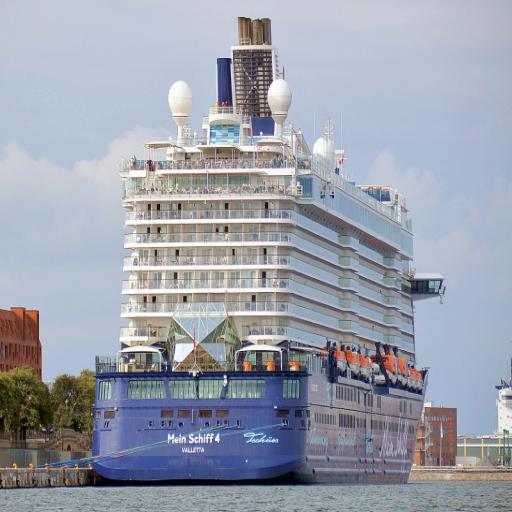cruises: (92, 16, 448, 491)
